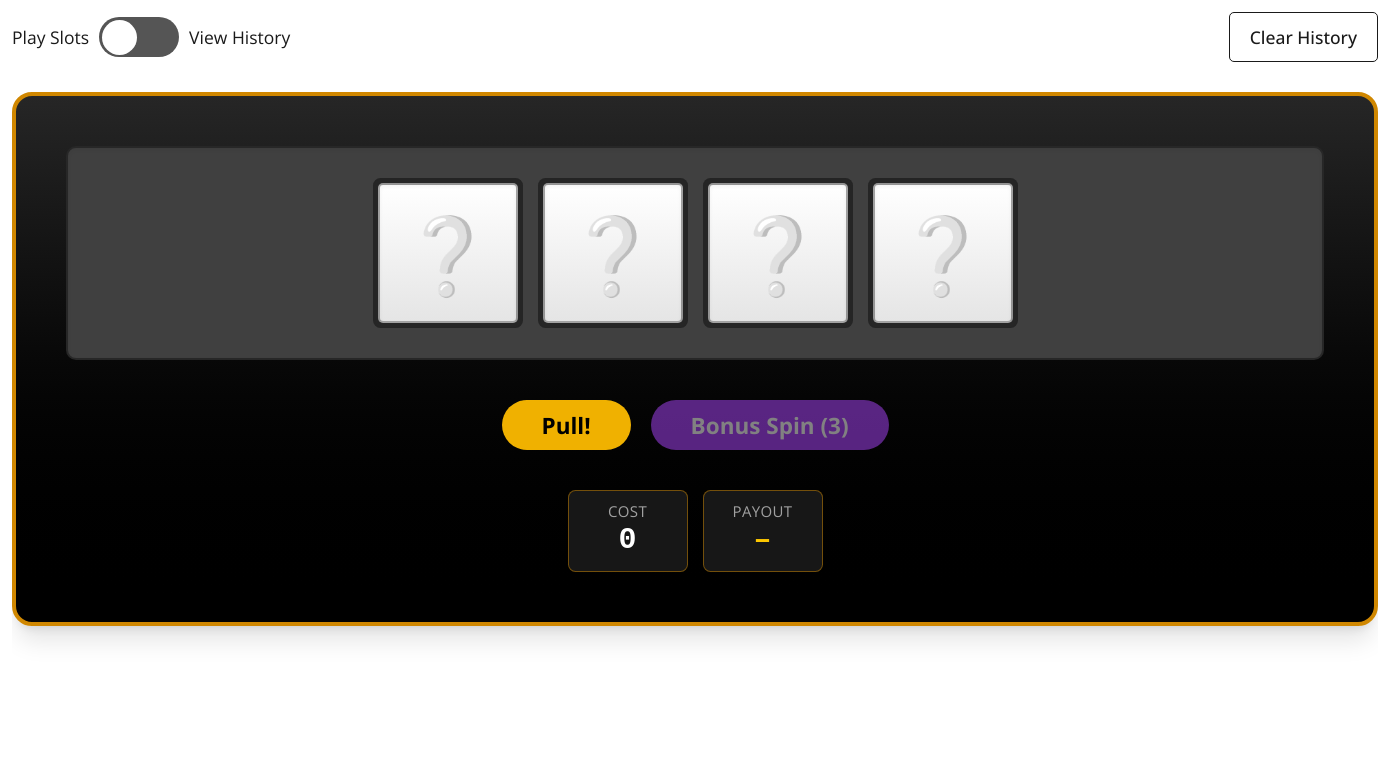
Test: SlotMachine (maxBonusSpins > 0) › deselects a reel when it is clicked again
The image size is (1390, 780).
Click the button "Pull!". click: click(566, 425)
box: [502,400,631,450]
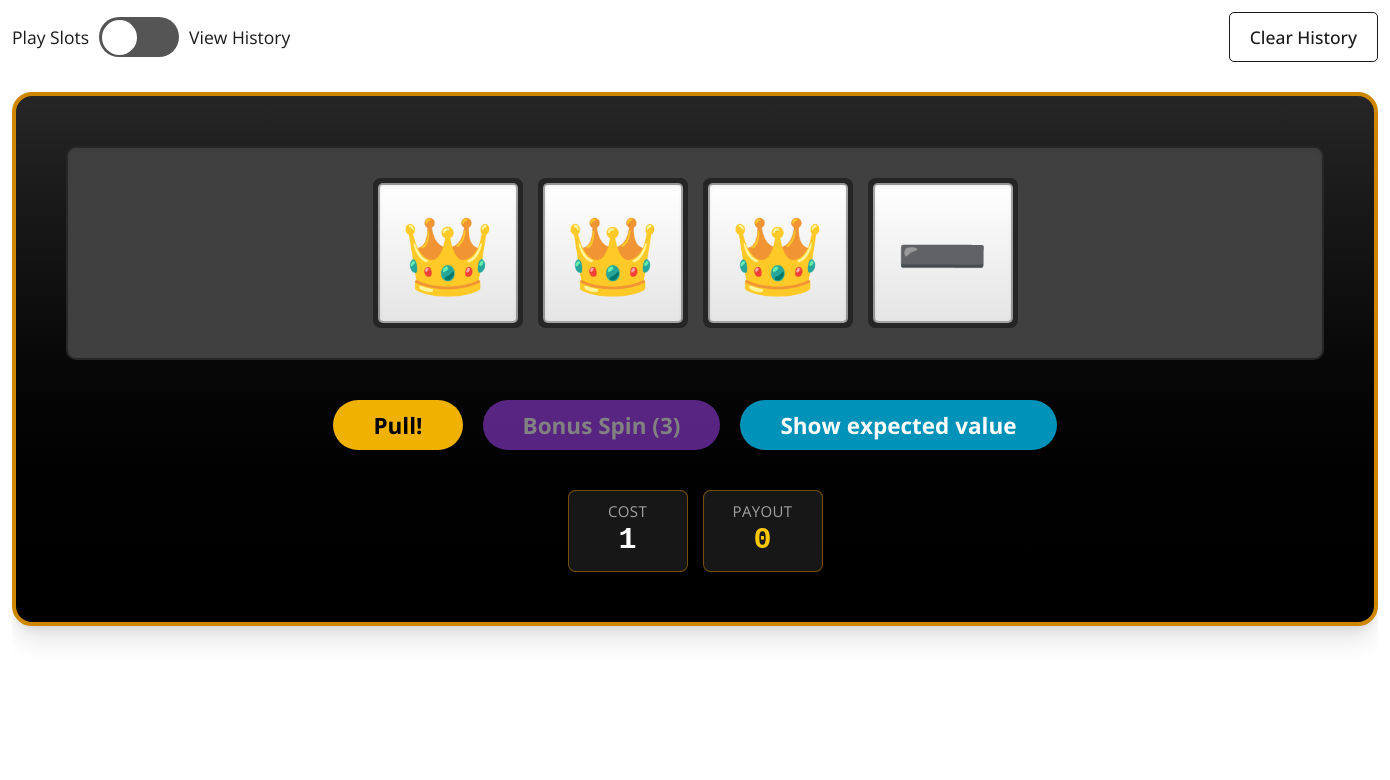
Click the button "➖". click: click(942, 253)
box: [868,178,1018,328]
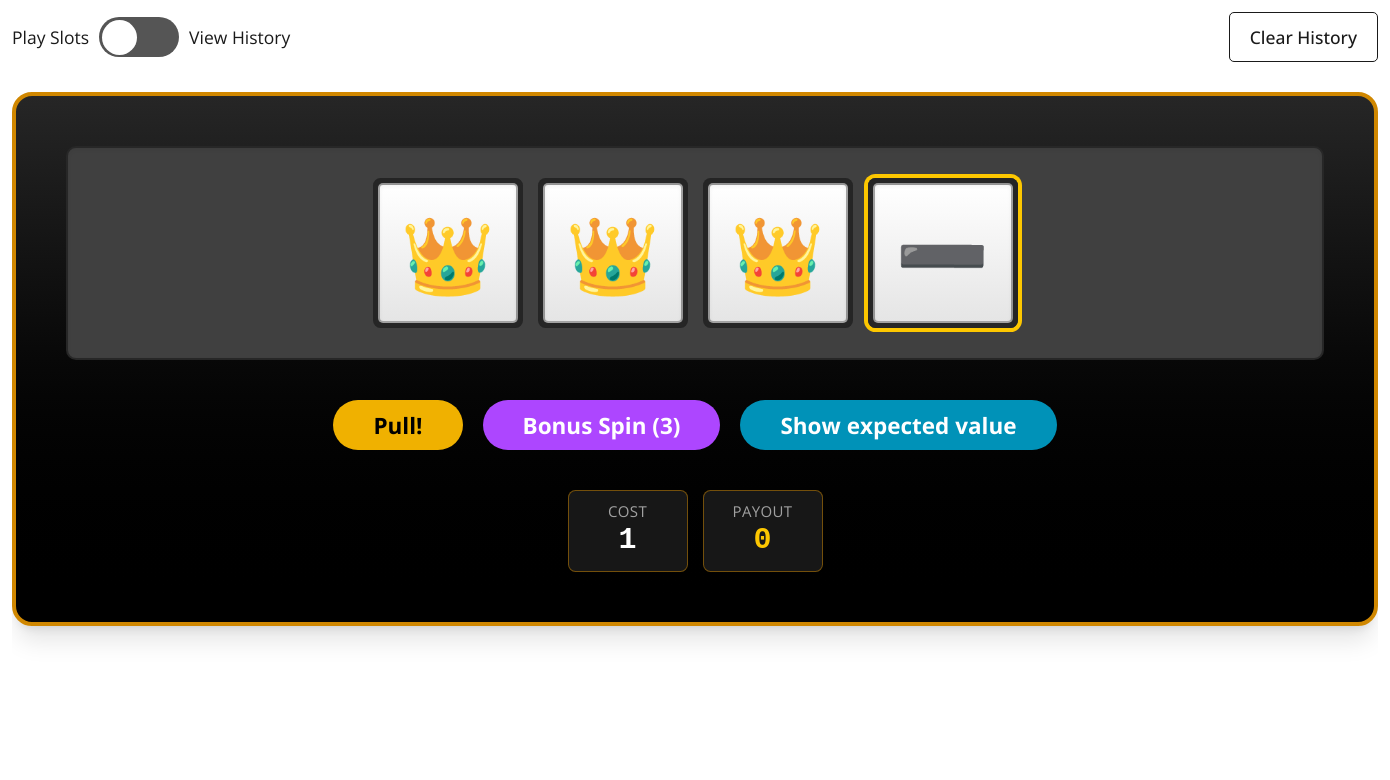
Click the button "➖". click: click(942, 253)
box: [868,178,1018,328]
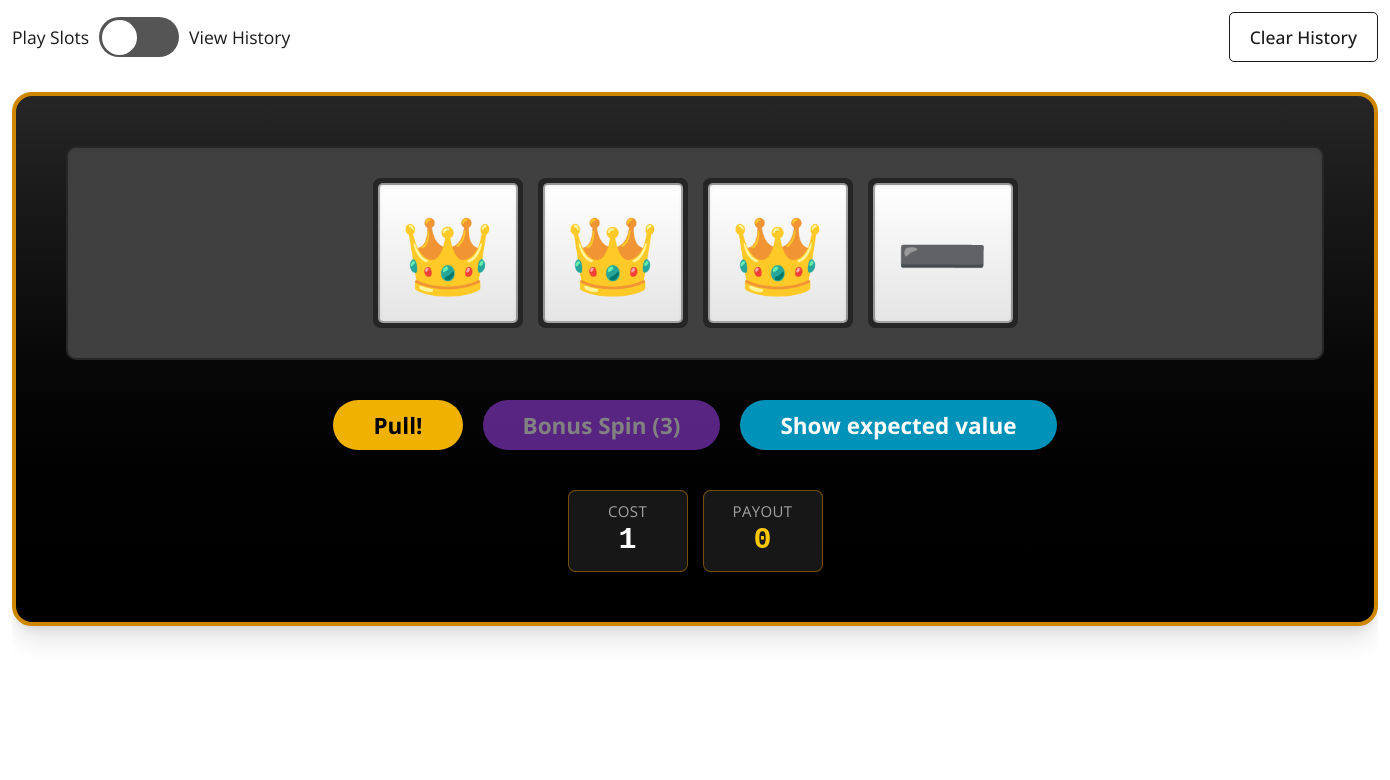
Expected: the button "Bonus Spin (3)" is disabled, [482,400,720,450]
